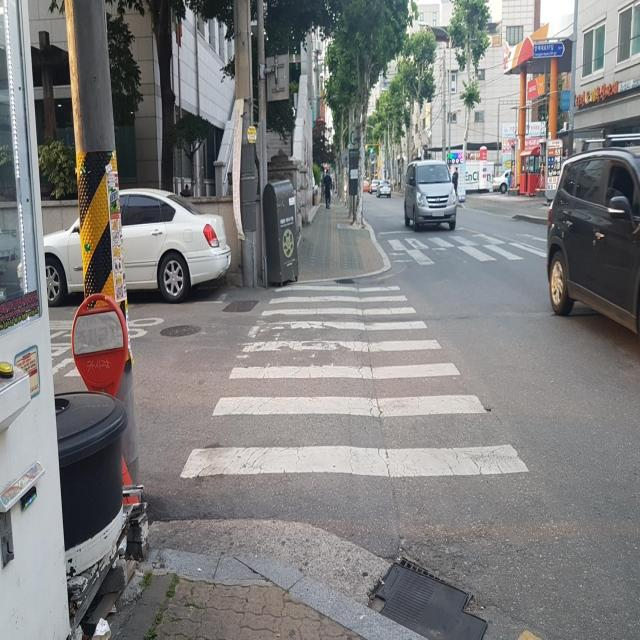횡단보도: (175, 280, 534, 484), (388, 233, 548, 268)
